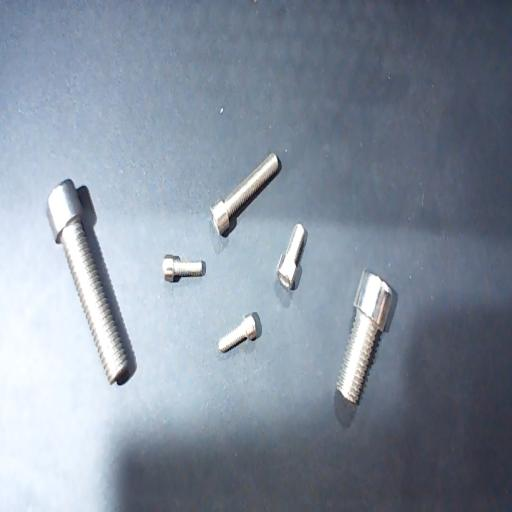screw: (46, 178, 136, 386), (334, 271, 398, 428), (211, 152, 282, 237), (276, 224, 308, 290), (218, 312, 262, 353), (163, 255, 206, 283)
